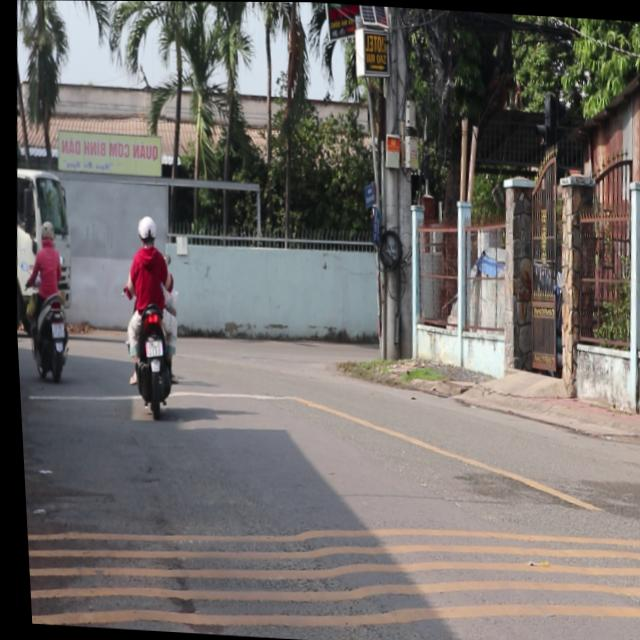helmet: (133, 212, 156, 243)
licenseplate: (113, 212, 184, 415)
nohelmet: (141, 337, 159, 356)
